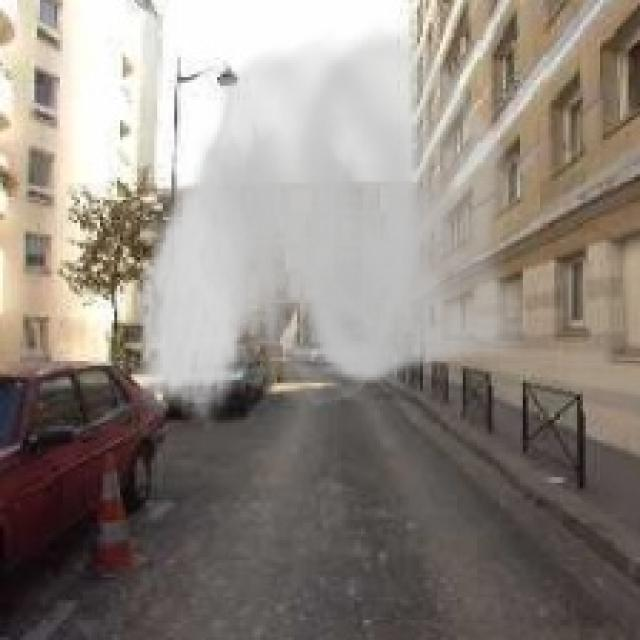Smoke: (132, 17, 528, 432)
